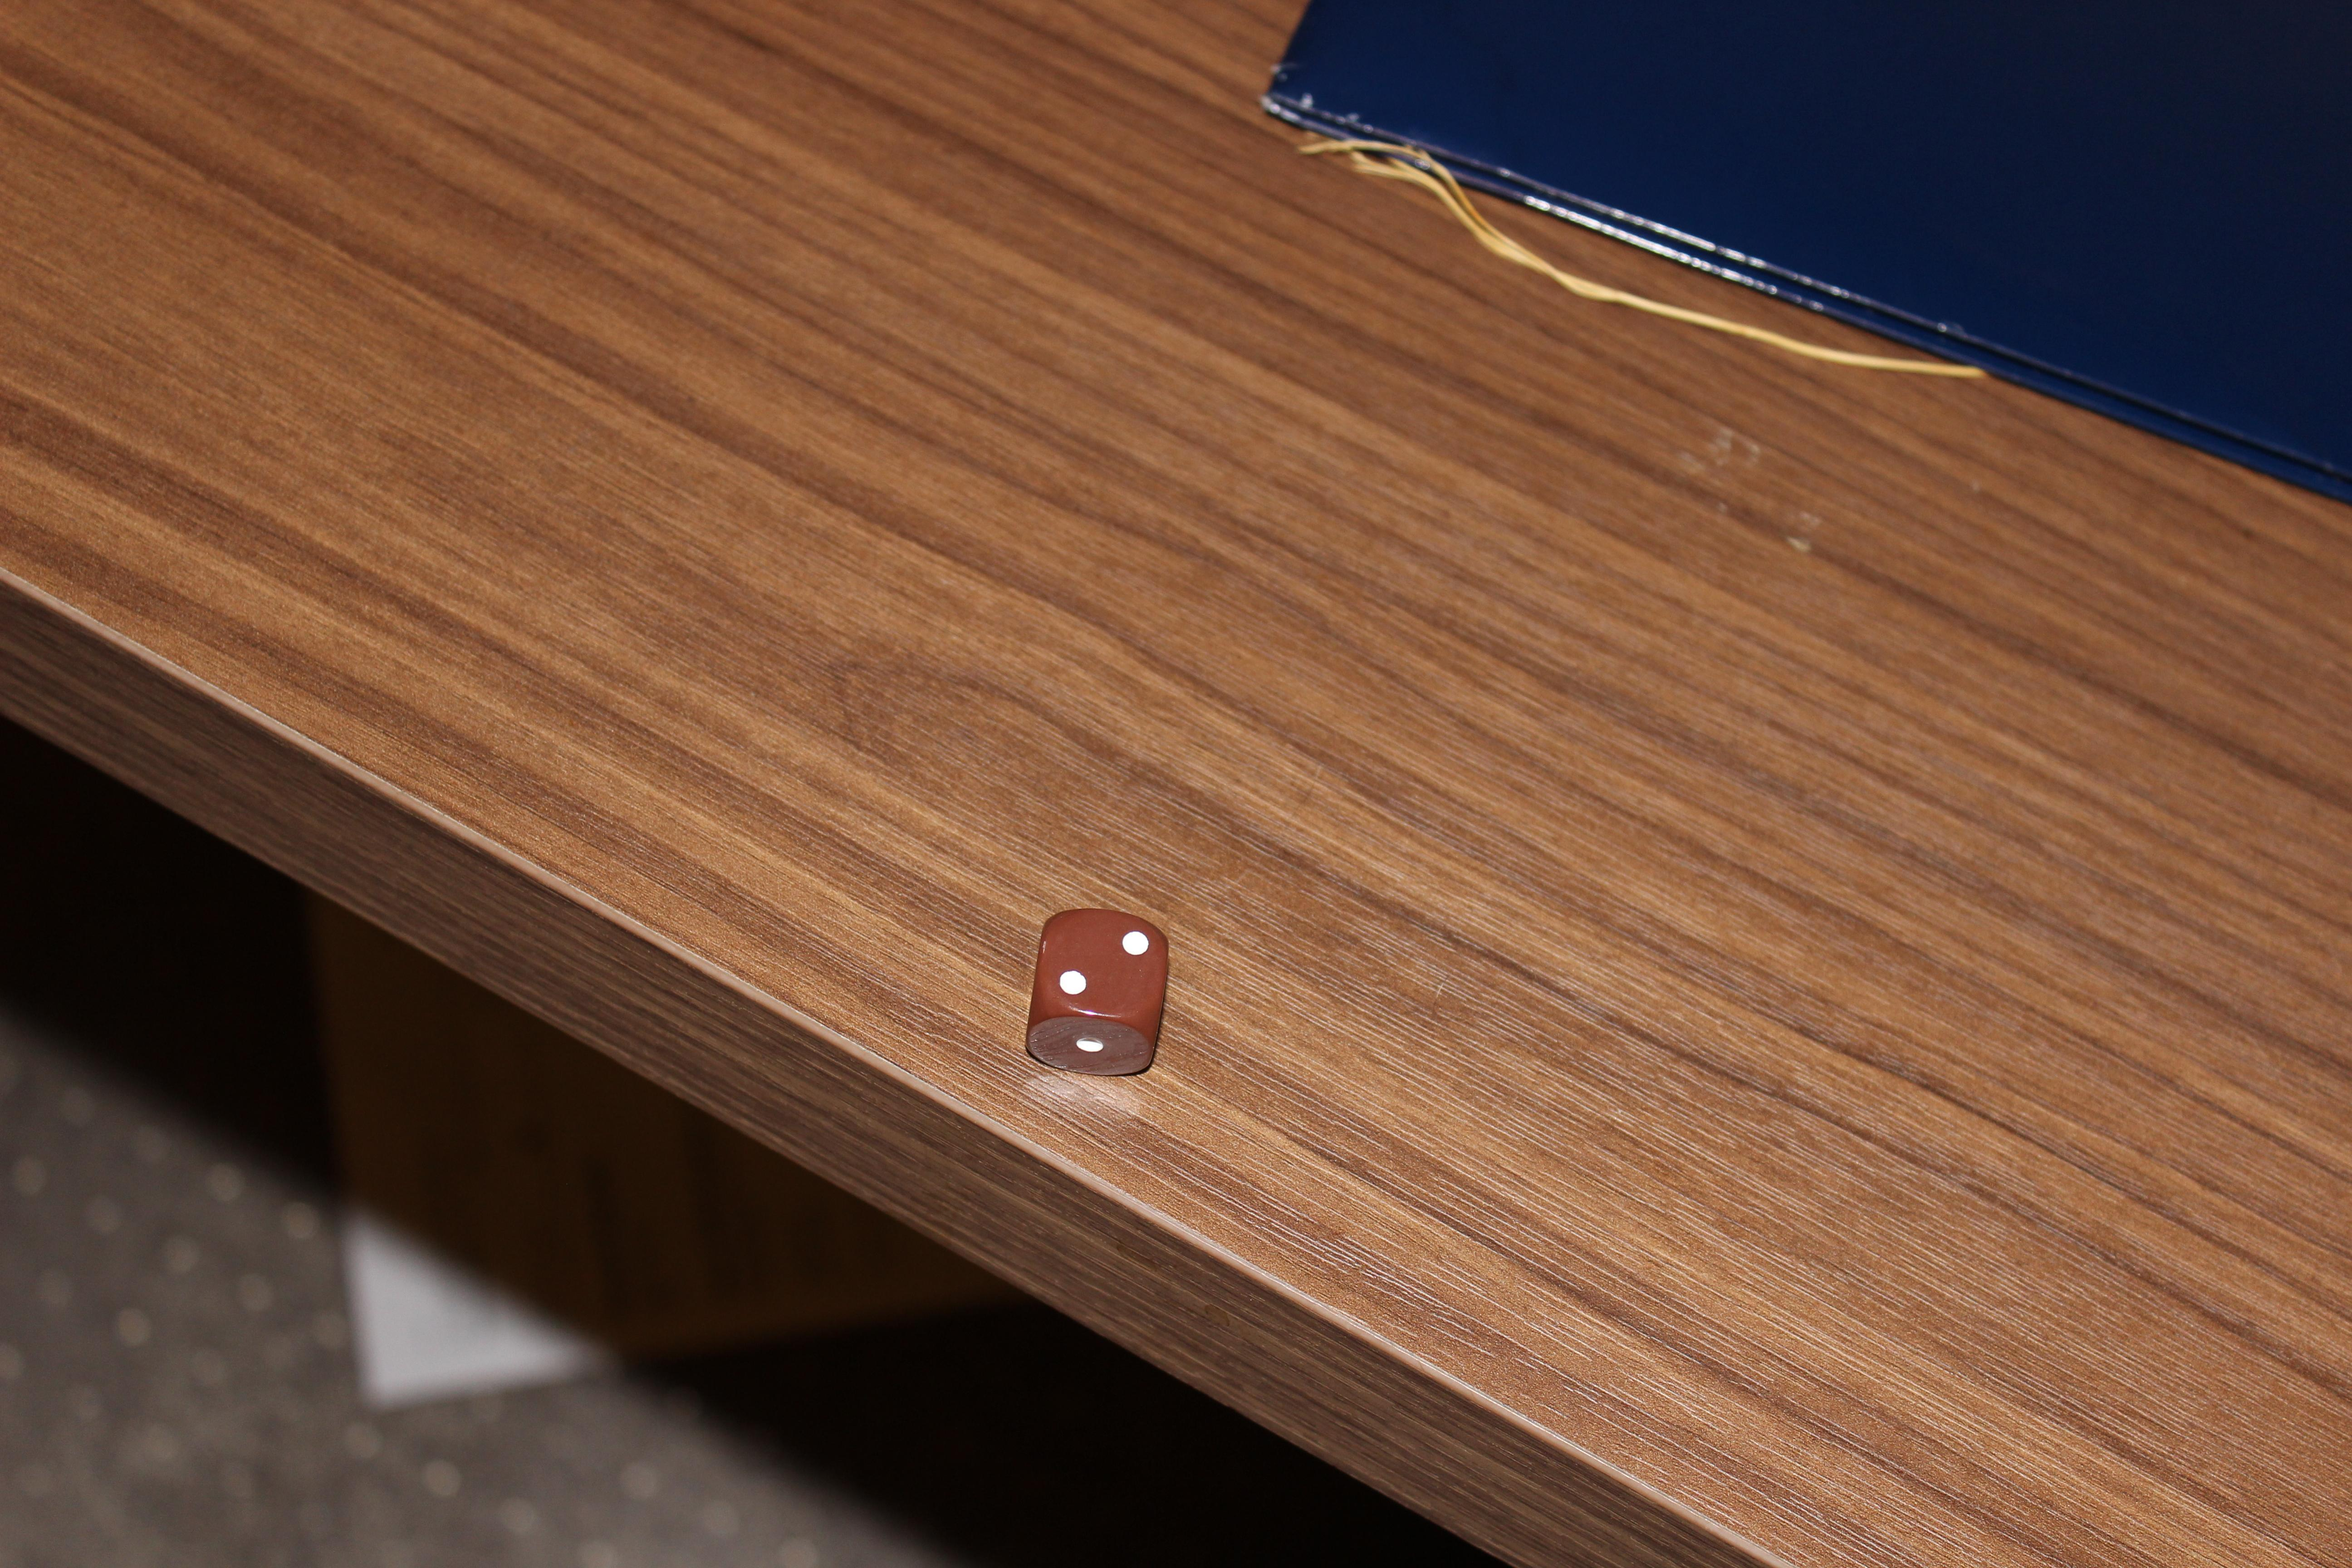brownDie: (996, 891, 1199, 1106)
